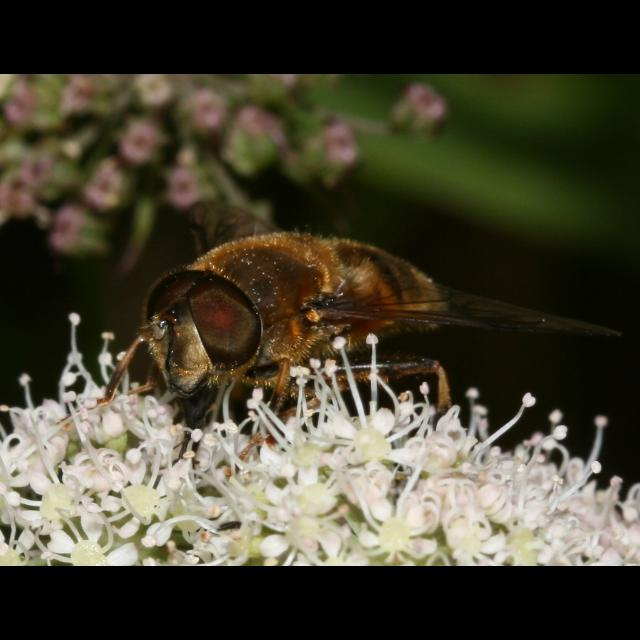Flower: (1, 74, 640, 566), (18, 390, 102, 508)
